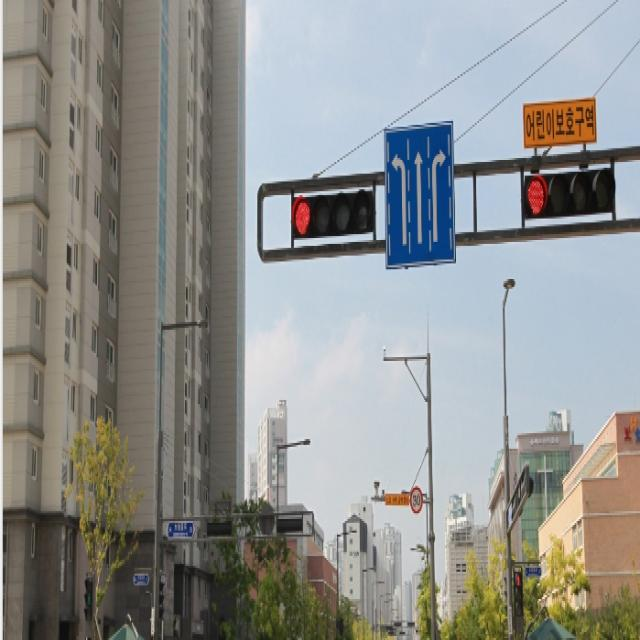red_light: (506, 142, 628, 238), (275, 187, 384, 249)
